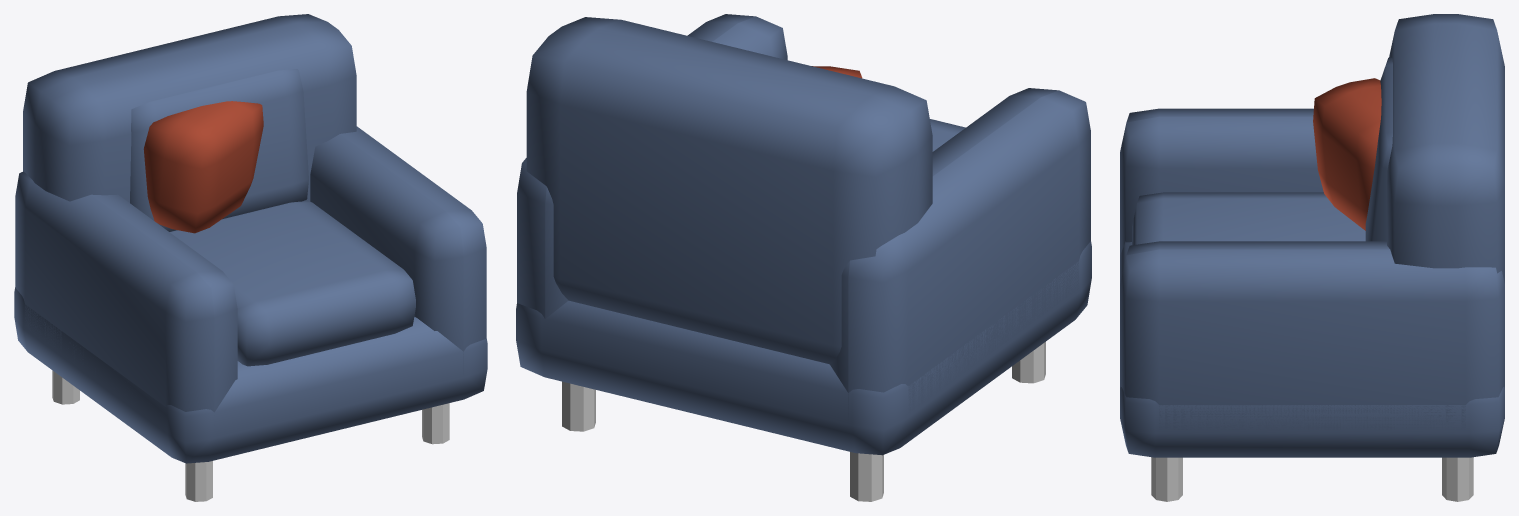
The model's file is armchair-slate.glb.
3 views of the same model, side by side, from view 1: azimuth 30°, elevation 25°; view 2: azimuth 150°, elevation 25°; view 3: azimuth 270°, elevation 25° (orthographic). The views are drawn at different scales.
Visible parts, largest first — view 1: armchair-slate; view 2: armchair-slate; view 3: armchair-slate.
Part boxes in pixels (x1,y1,x2,y2): armchair-slate: [14, 14, 487, 501]; armchair-slate: [516, 14, 1091, 501]; armchair-slate: [1120, 14, 1504, 501].
Size of the model in its own units: 1.15 by 1.13 by 1.13.
